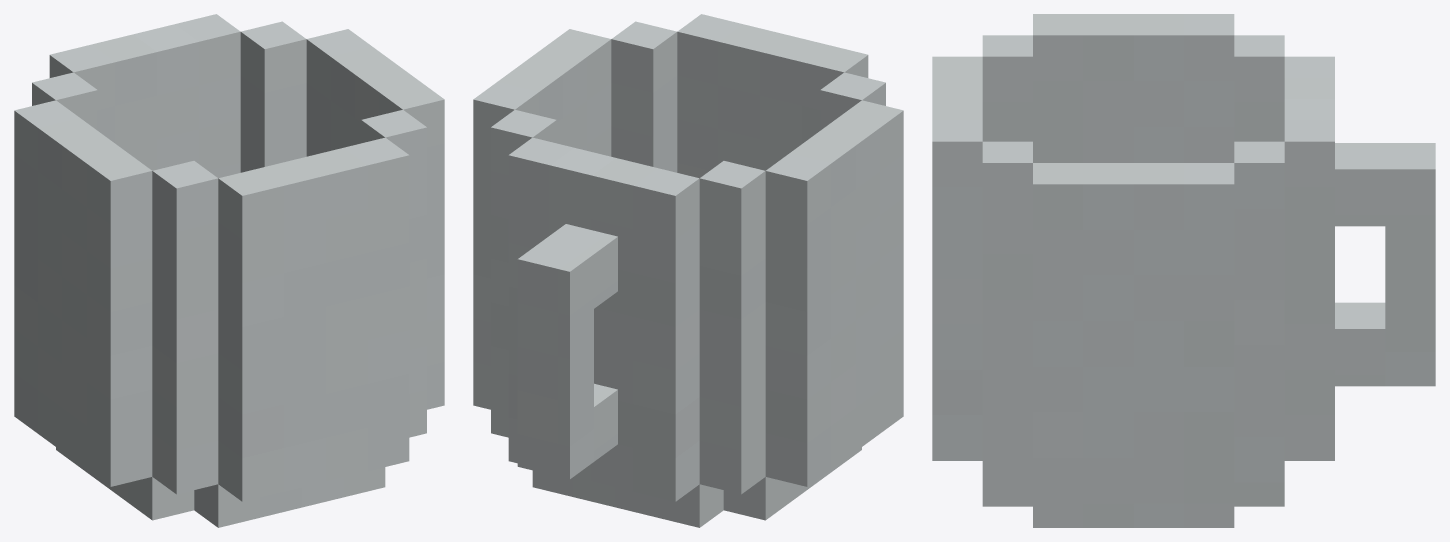
Rendered from blue_mug.gltf.
The picture shows the model from 3 angles, left to right: view 1: azimuth 30°, elevation 25°; view 2: azimuth 150°, elevation 25°; view 3: azimuth 270°, elevation 25°; orthographic projection. The views are drawn at different scales.
Visible parts, largest first — view 1: cube (×10); view 2: cube (×13); view 3: cube (×13).
Boxes of the visible parts, x1,y1,x2,y2 form: cube (×10): (14,14,444,527); cube (×13): (473,14,903,527); cube (×13): (932,14,1435,527).
Bounding box in the file's own units: 0.5 × 0.5 × 0.625.
Materials: 1 (1 with a texture image).
